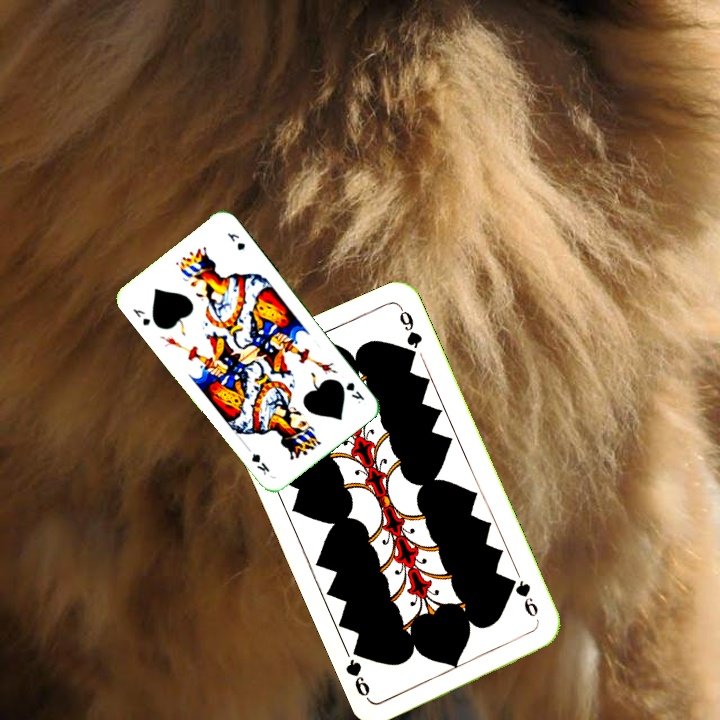G9: (505, 573, 541, 620)
GK: (342, 378, 367, 406), (129, 305, 153, 328)
